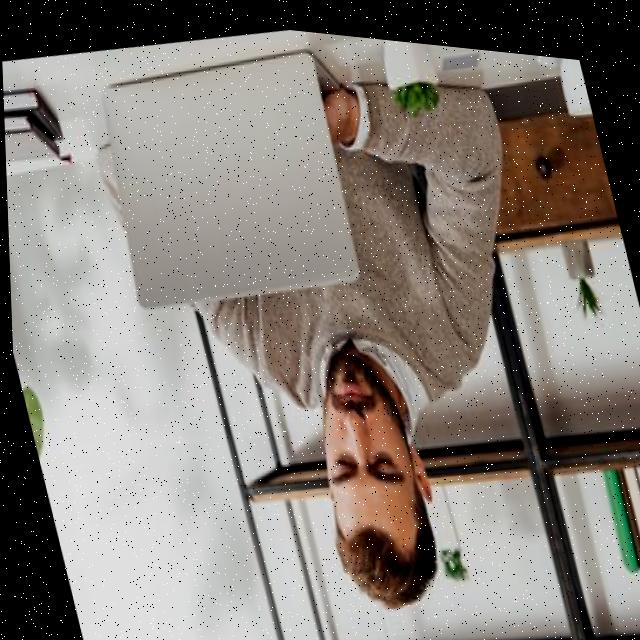notebook-person: (63, 5, 620, 640)
